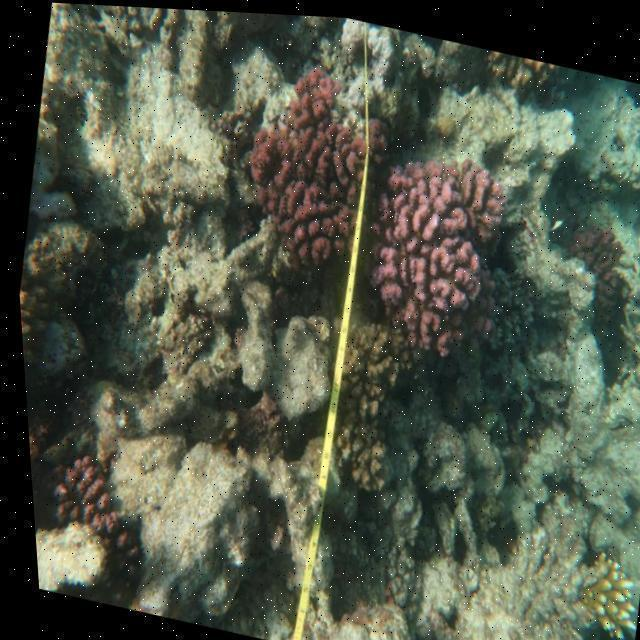Healthy Coral: (339, 108, 542, 358), (215, 45, 394, 286), (306, 313, 424, 491), (23, 442, 149, 544), (547, 197, 640, 314), (560, 537, 635, 640)
